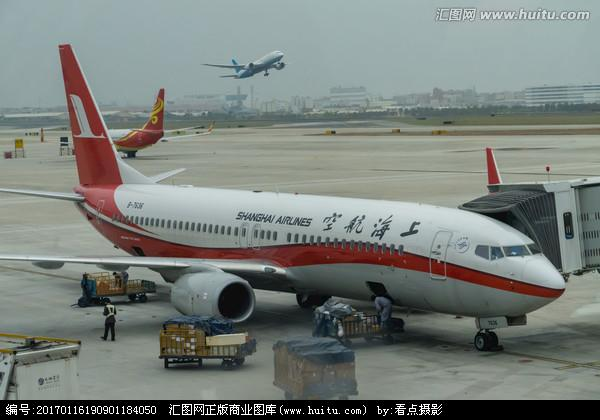airplane: (7, 41, 562, 348), (202, 49, 290, 83)
